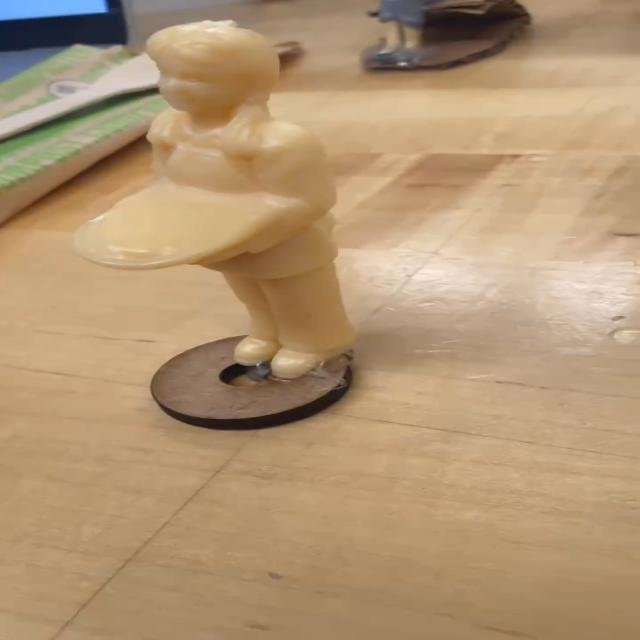Unauthorized: (77, 20, 378, 375)
